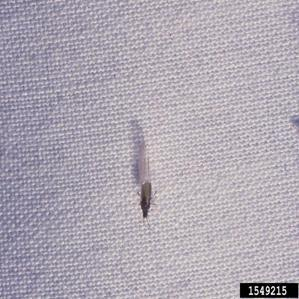Green peach aphid: (121, 165, 174, 226)
